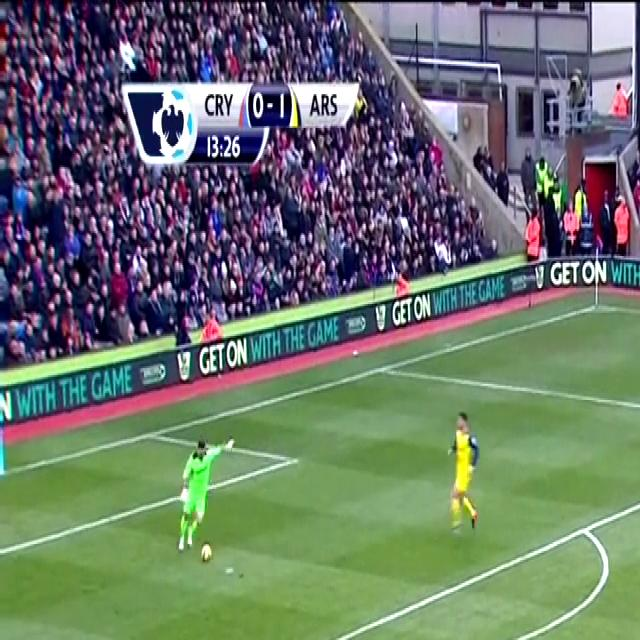ball: (195, 540, 222, 572)
goalkeeper: (168, 432, 230, 568)
soccer-player: (434, 404, 490, 545)
